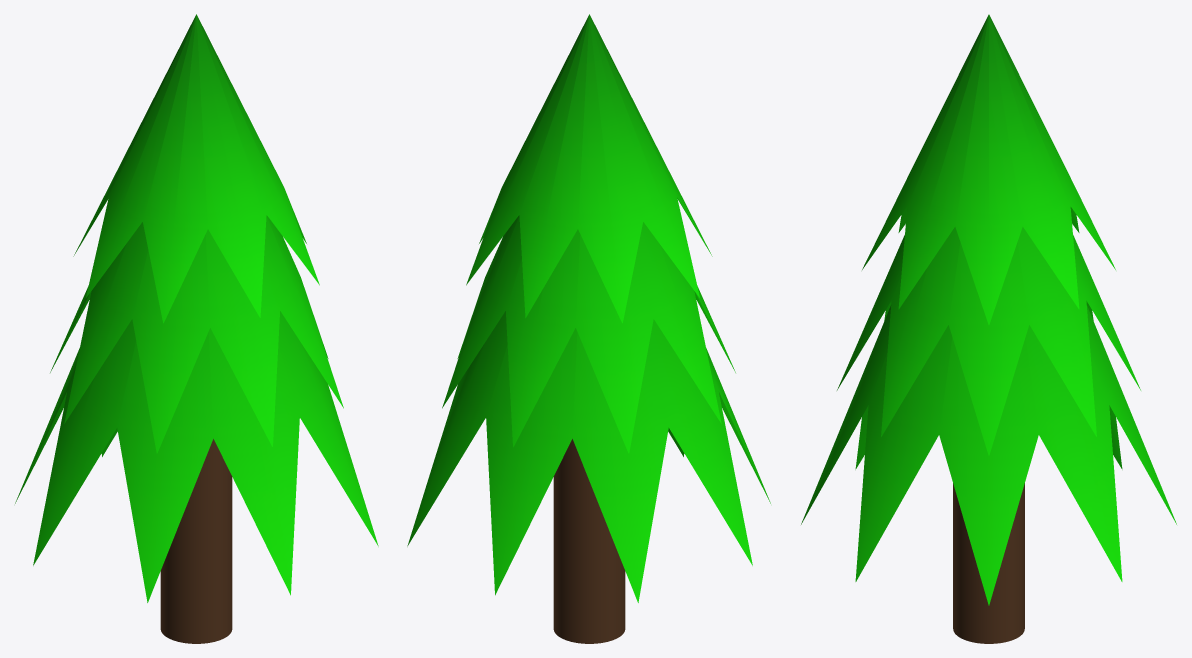
The model's file is Yoshi Valley Tree.dae.
The picture shows the model from 3 angles, left to right: view 1: azimuth 30°, elevation 25°; view 2: azimuth 150°, elevation 25°; view 3: azimuth 270°, elevation 25°; orthographic projection.
Parts seen in each view (by area): view 1: Leaves, Cylinder; view 2: Leaves, Cylinder; view 3: Leaves, Cylinder.
Part boxes in pixels (left/top/right/bottom): Leaves: left=15, top=14, right=378, bottom=602; Cylinder: left=160, top=439, right=232, bottom=643; Leaves: left=407, top=14, right=770, bottom=602; Cylinder: left=553, top=439, right=625, bottom=643; Leaves: left=801, top=14, right=1176, bottom=605; Cylinder: left=953, top=483, right=1024, bottom=643.
Bounding box in the file's own units: 52.59 × 94.47 × 52.59.
2 materials, 2 textured.
